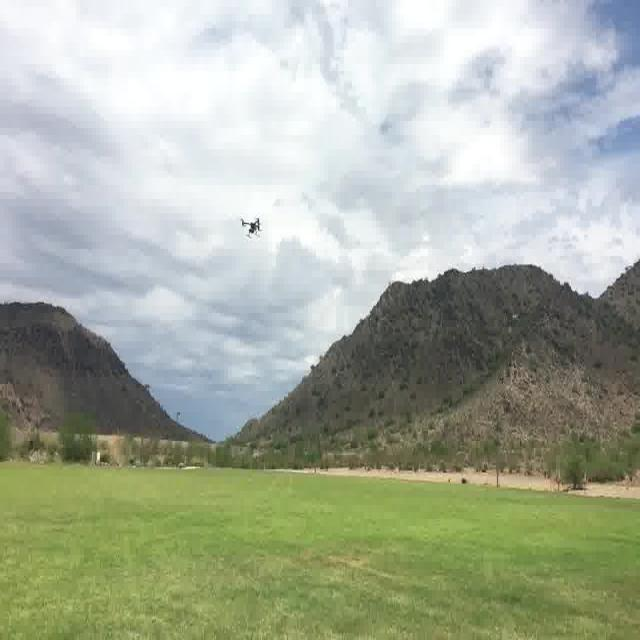drone: (240, 212, 262, 238)
